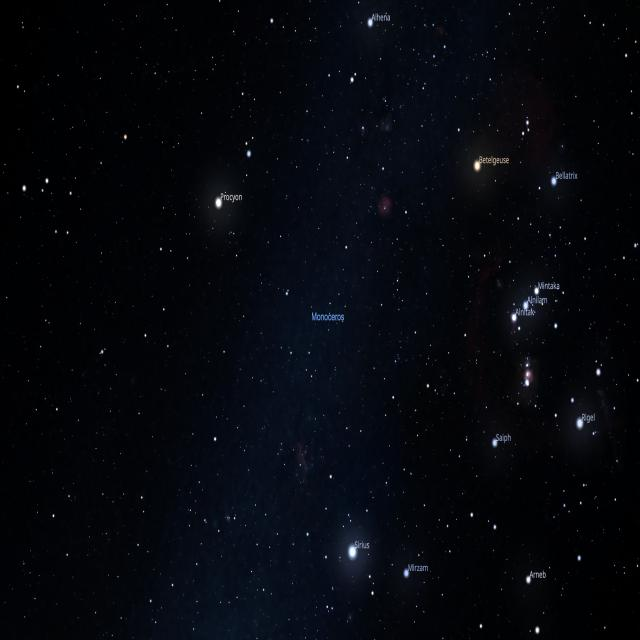Monoceros: (143, 212, 448, 446)
